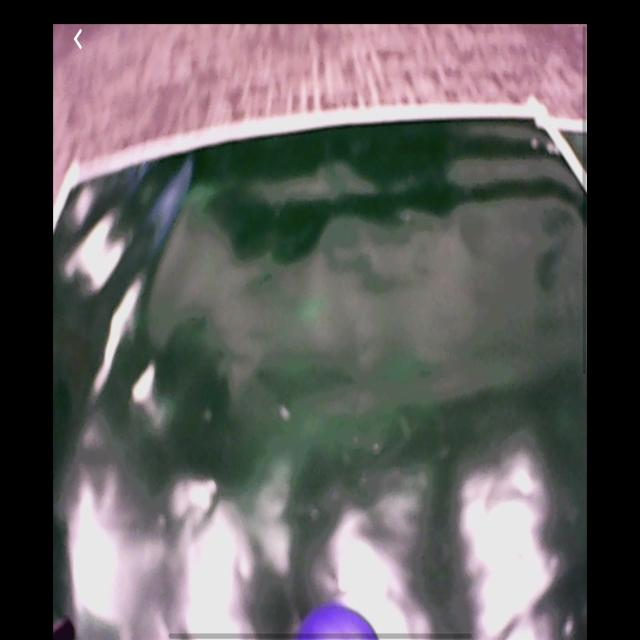ball: (291, 603, 379, 640)
